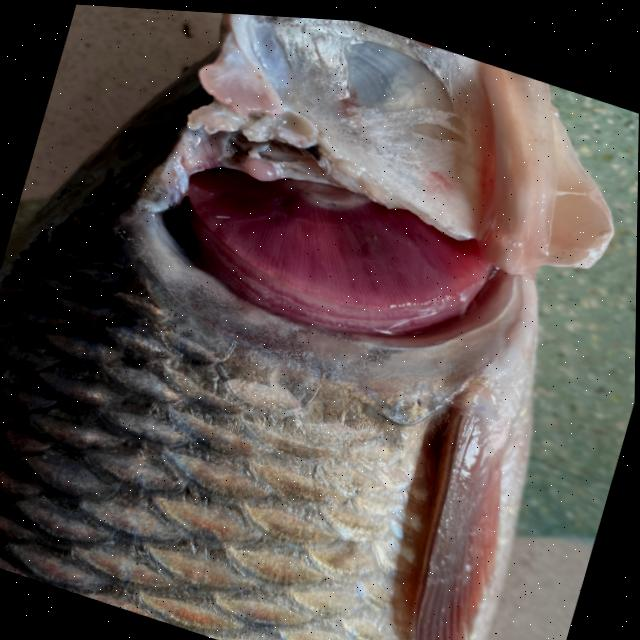Fresh: (117, 85, 594, 411)
